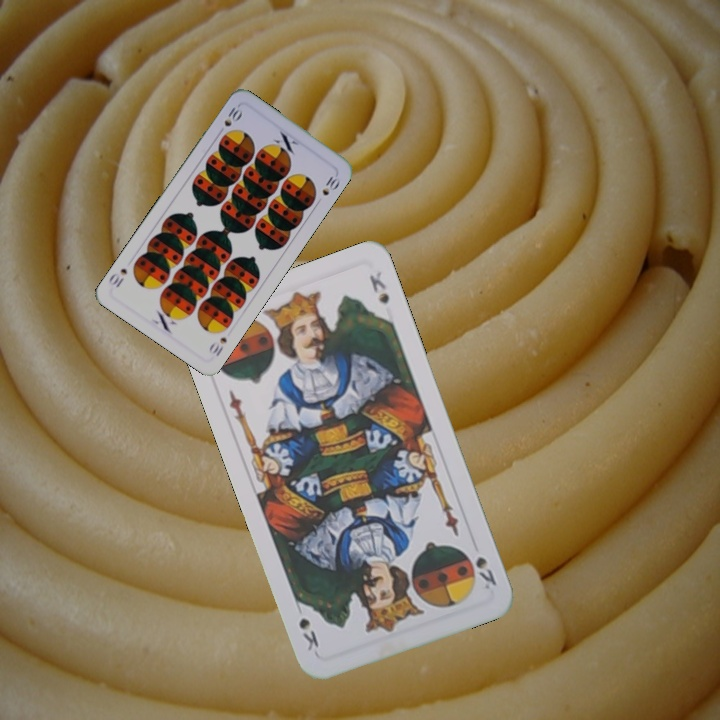S10: (214, 102, 245, 137), (205, 333, 229, 359)
SK: (471, 552, 500, 592)
